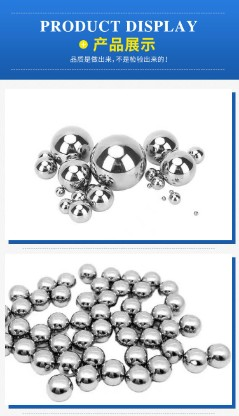ironball: (89, 133, 146, 190), (50, 124, 94, 164), (160, 149, 196, 186), (143, 129, 179, 165), (57, 158, 91, 192), (45, 373, 73, 401), (86, 183, 114, 211), (125, 364, 152, 392), (146, 354, 172, 382), (182, 347, 208, 373), (100, 358, 125, 385), (75, 364, 100, 391), (30, 348, 55, 374), (56, 350, 81, 376), (11, 337, 36, 362), (160, 338, 184, 364), (207, 343, 231, 368), (179, 313, 202, 337), (81, 345, 105, 368), (34, 156, 57, 179), (90, 318, 112, 342), (68, 200, 92, 222), (124, 345, 147, 367), (46, 311, 69, 333), (139, 327, 162, 348), (7, 317, 30, 338), (48, 333, 72, 353), (164, 292, 185, 314), (50, 284, 71, 306), (72, 329, 94, 350), (29, 288, 50, 310), (115, 326, 138, 346), (158, 318, 179, 339), (10, 297, 32, 317), (69, 309, 91, 329), (29, 323, 51, 343), (132, 310, 154, 329), (109, 310, 131, 329), (151, 303, 173, 321), (131, 280, 152, 298), (75, 291, 96, 309), (78, 263, 96, 283), (90, 302, 110, 320), (120, 297, 141, 314), (8, 284, 29, 301), (96, 289, 117, 306), (187, 145, 204, 164), (158, 279, 178, 295), (36, 276, 56, 292), (101, 266, 121, 282), (110, 279, 130, 295), (141, 270, 160, 286), (56, 271, 75, 287), (90, 276, 109, 292), (121, 269, 140, 284), (58, 197, 72, 213), (4, 332, 13, 356), (150, 175, 165, 189), (71, 189, 86, 202), (168, 190, 181, 204), (145, 167, 158, 181), (37, 149, 52, 159), (4, 304, 10, 323), (55, 185, 65, 196)
